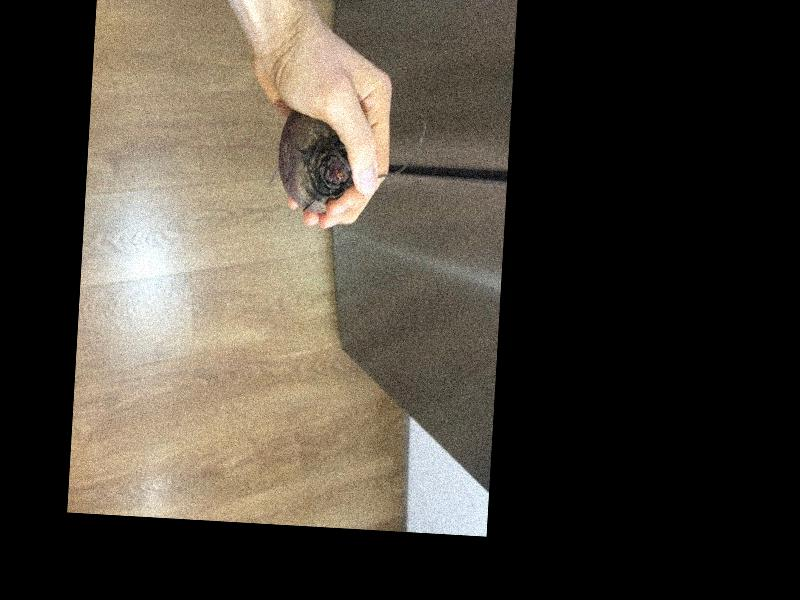Beet: (275, 108, 428, 220)
